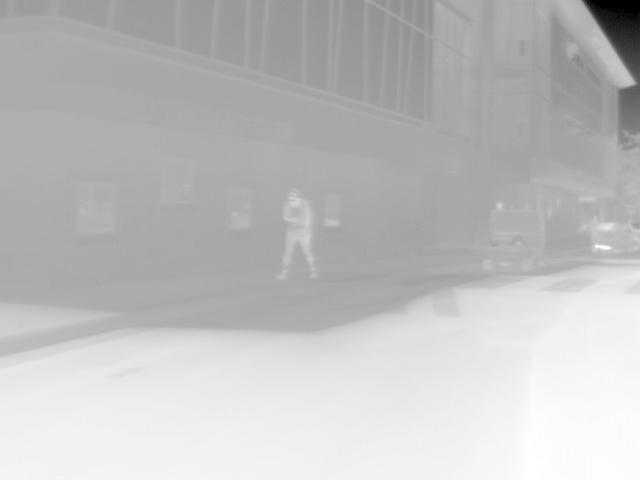car: (593, 219, 637, 253)
person: (273, 189, 321, 283)
